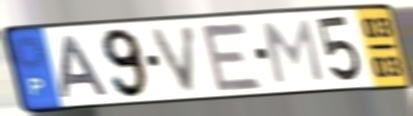5: (314, 14, 362, 84)
9: (98, 26, 154, 100)
A: (60, 33, 112, 100)
E: (197, 21, 266, 93)
M: (259, 17, 327, 86)
V: (147, 22, 200, 95)
